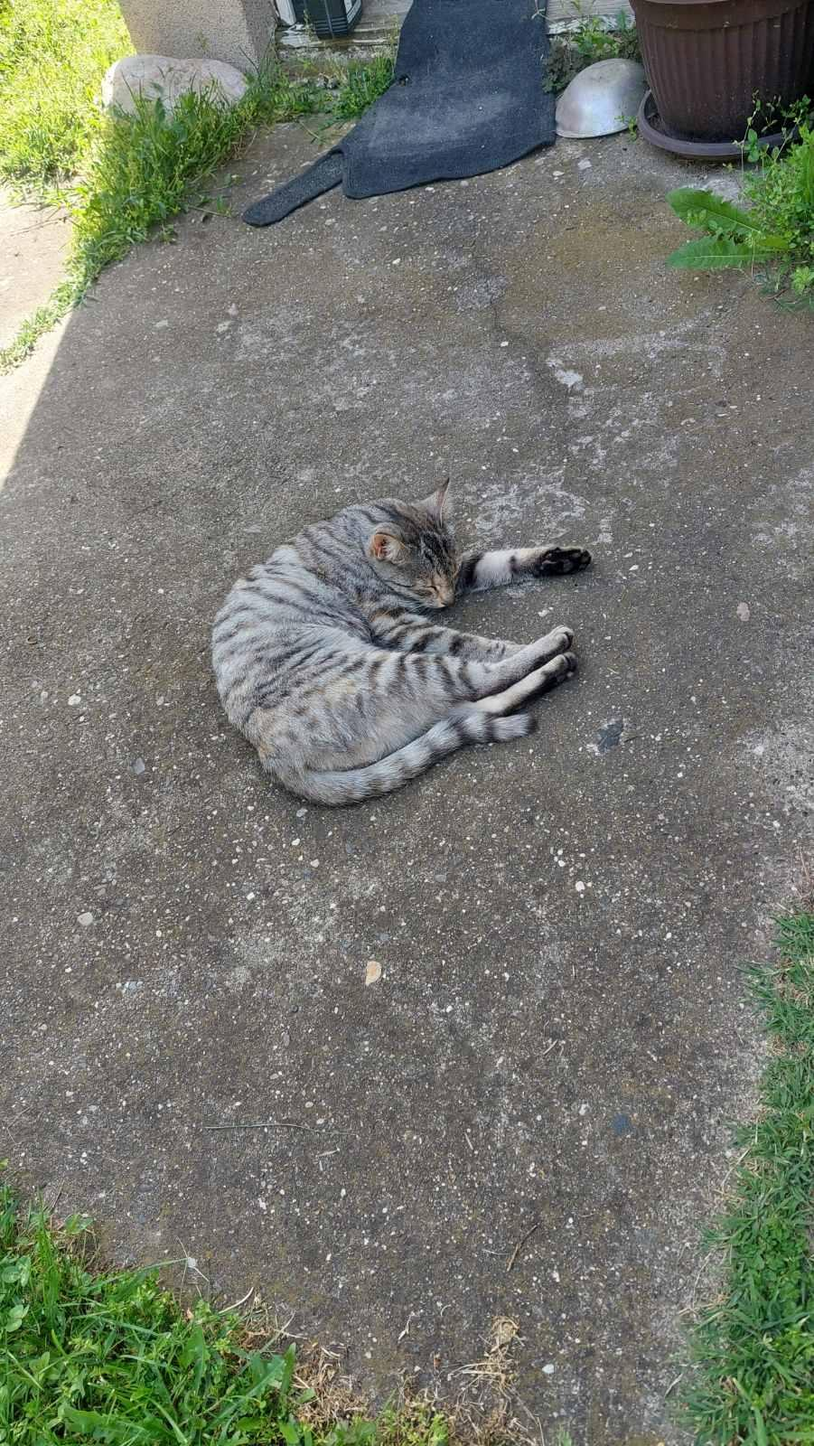macka: (210, 475, 592, 810)
